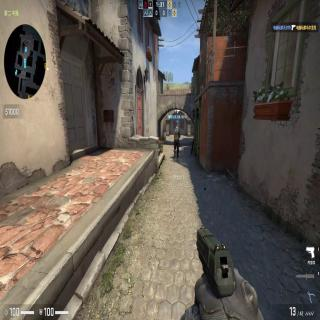CT-Body: (173, 124, 181, 159)
